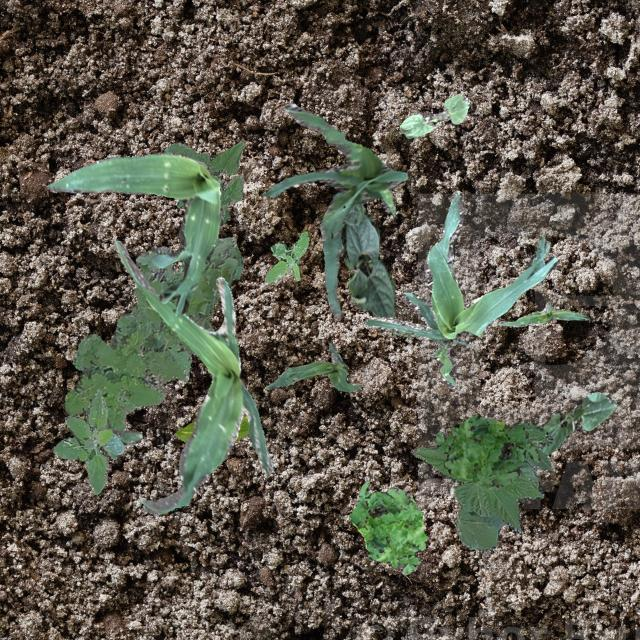crop: (112, 240, 272, 514), (364, 190, 556, 388), (262, 102, 406, 314), (46, 152, 222, 314), (412, 416, 552, 550), (163, 139, 245, 223), (340, 202, 396, 318), (538, 392, 616, 454), (264, 342, 360, 391), (398, 91, 468, 138), (497, 302, 588, 326), (174, 414, 248, 440)
weed: (64, 237, 242, 430), (434, 412, 540, 490), (52, 388, 124, 494), (348, 479, 427, 574), (264, 230, 308, 282), (100, 418, 142, 458)
